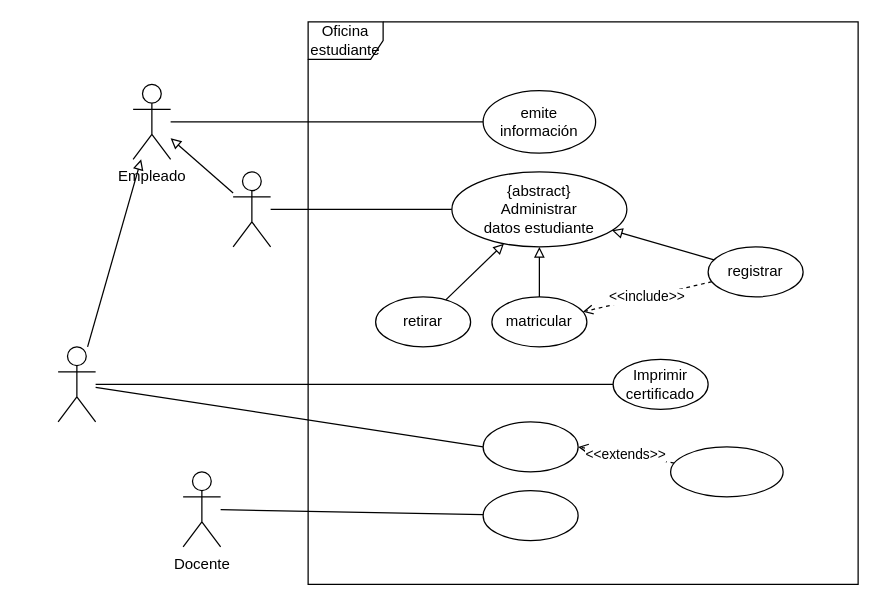
This 880x606 diagram has some shape labels left out. Each missing label, with the centre of its shape:
"AdminEmpleado" goes at (76,384).
"crear curso" goes at (530,446).
"enviar certificado" goes at (530,515).
"reserva sala conferencia" goes at (726,471).
"ServiEmpleado" goes at (251,209).
